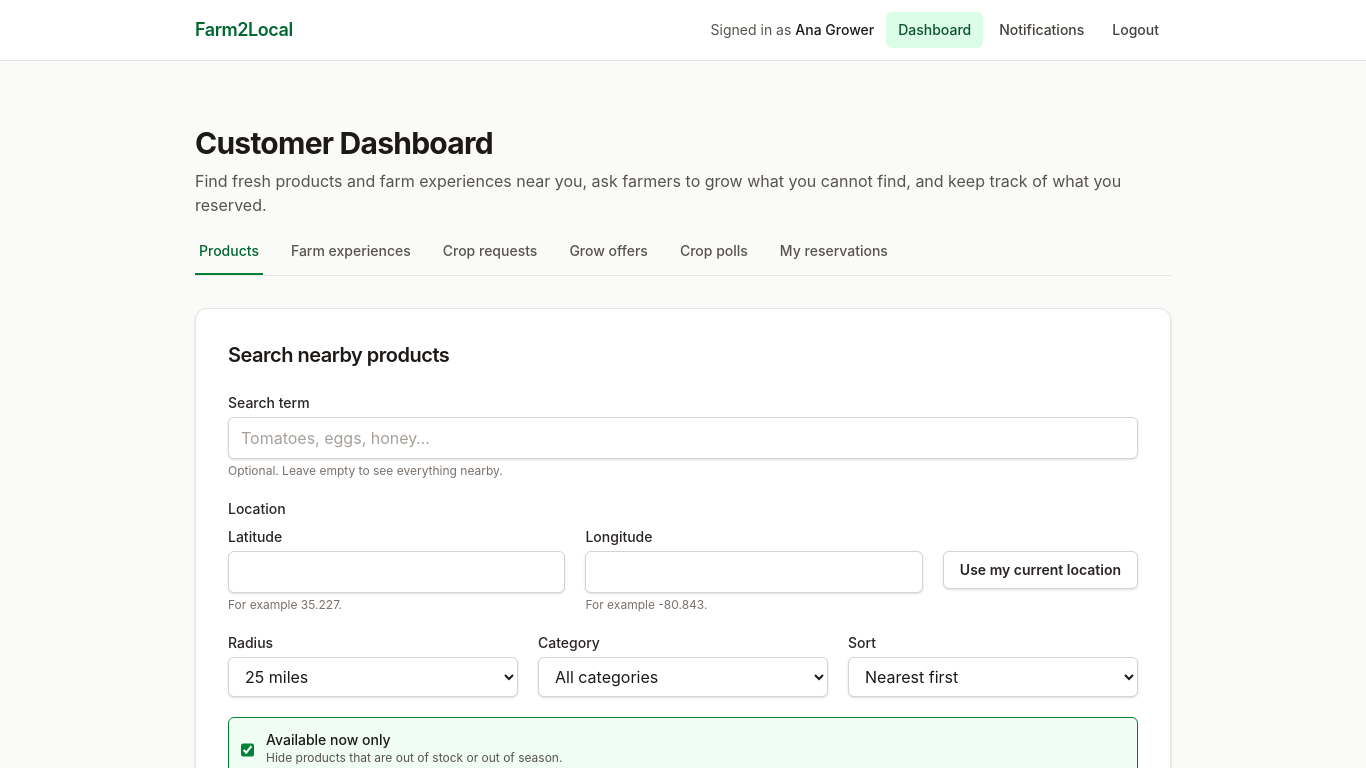
it: reserving a product from the search results › offers no reserve button for a product that is out of stock
Type "35.2271" into the field labelled "Latitude".
click(397, 572); type("35.2271")  # box [228,551,565,593]
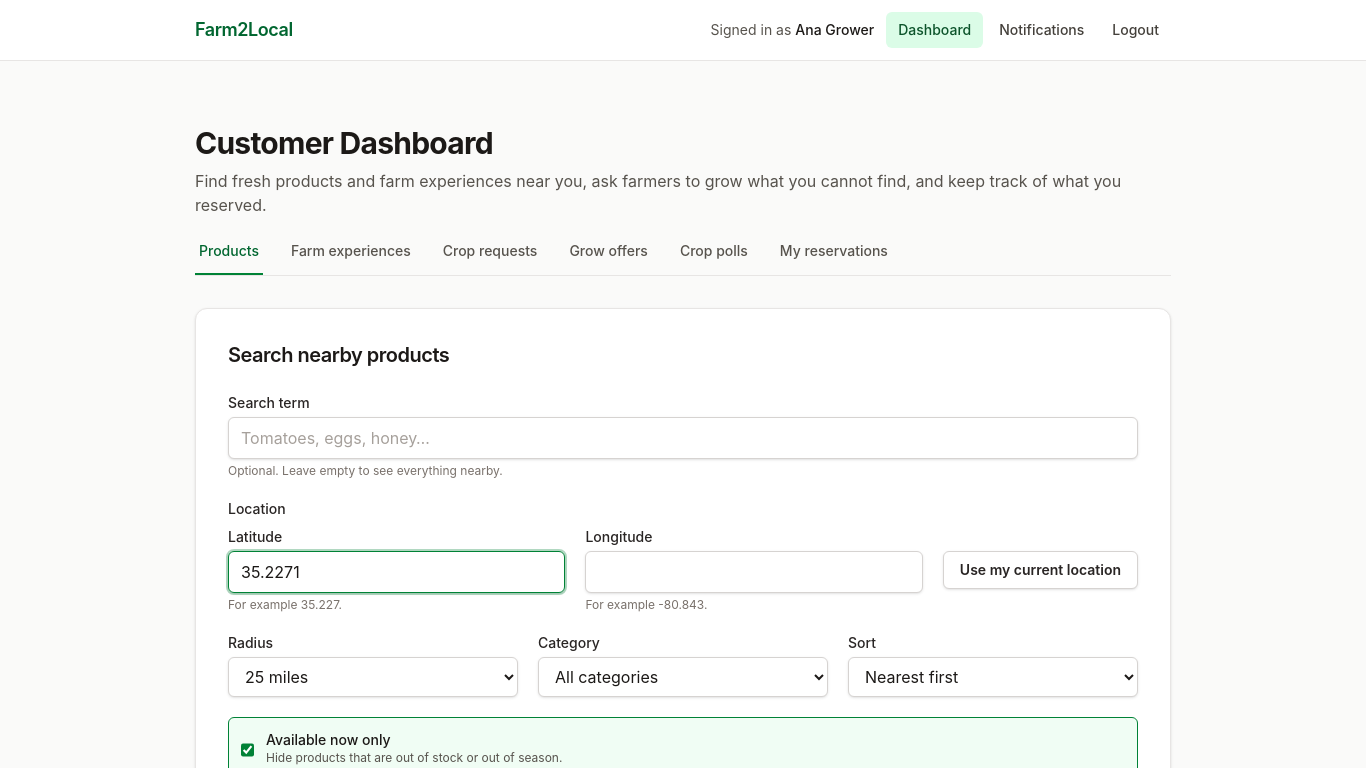
Type "-80.8431" into the field labelled "Longitude".
click(754, 572); type("-80.8431")  # box [585,551,923,593]
(page scrolled)
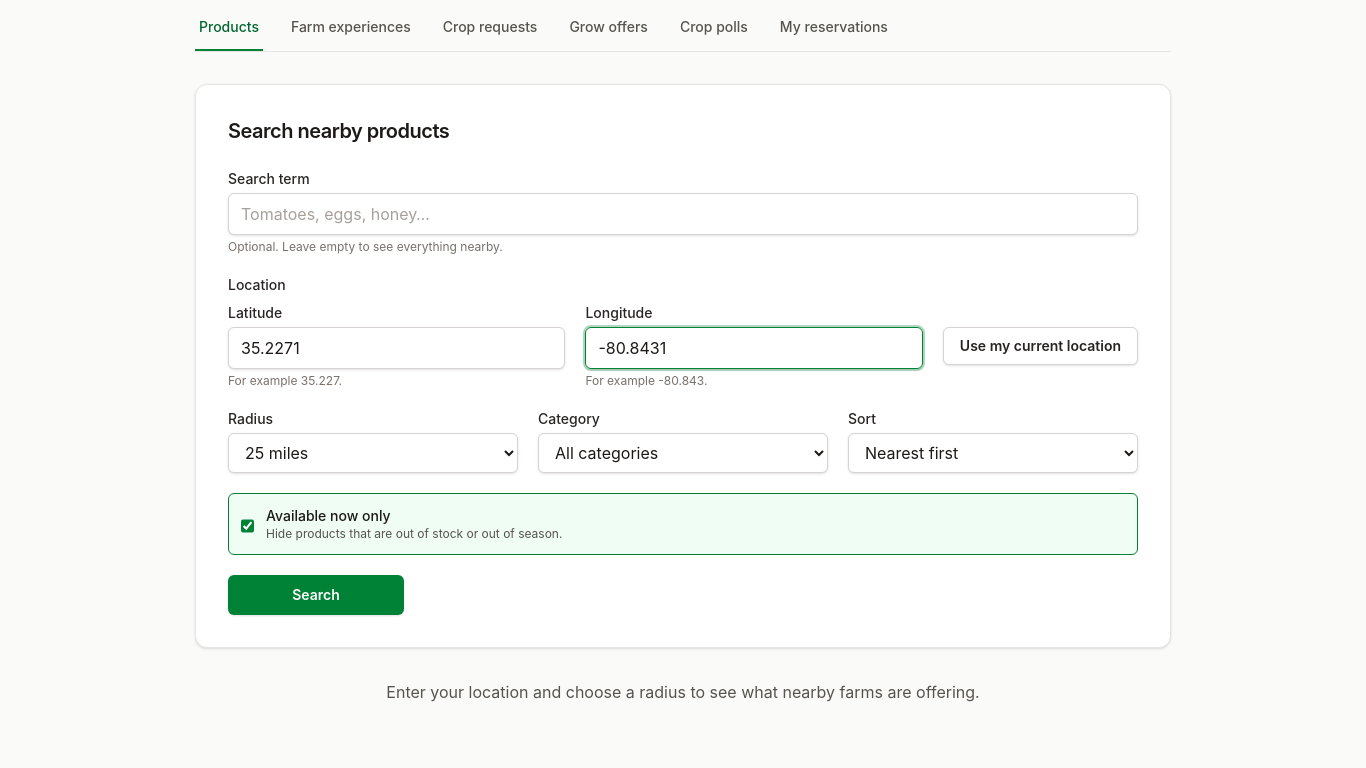
Click the button "Search".
click(316, 595)  # box [228,575,404,615]
(page scrolled)
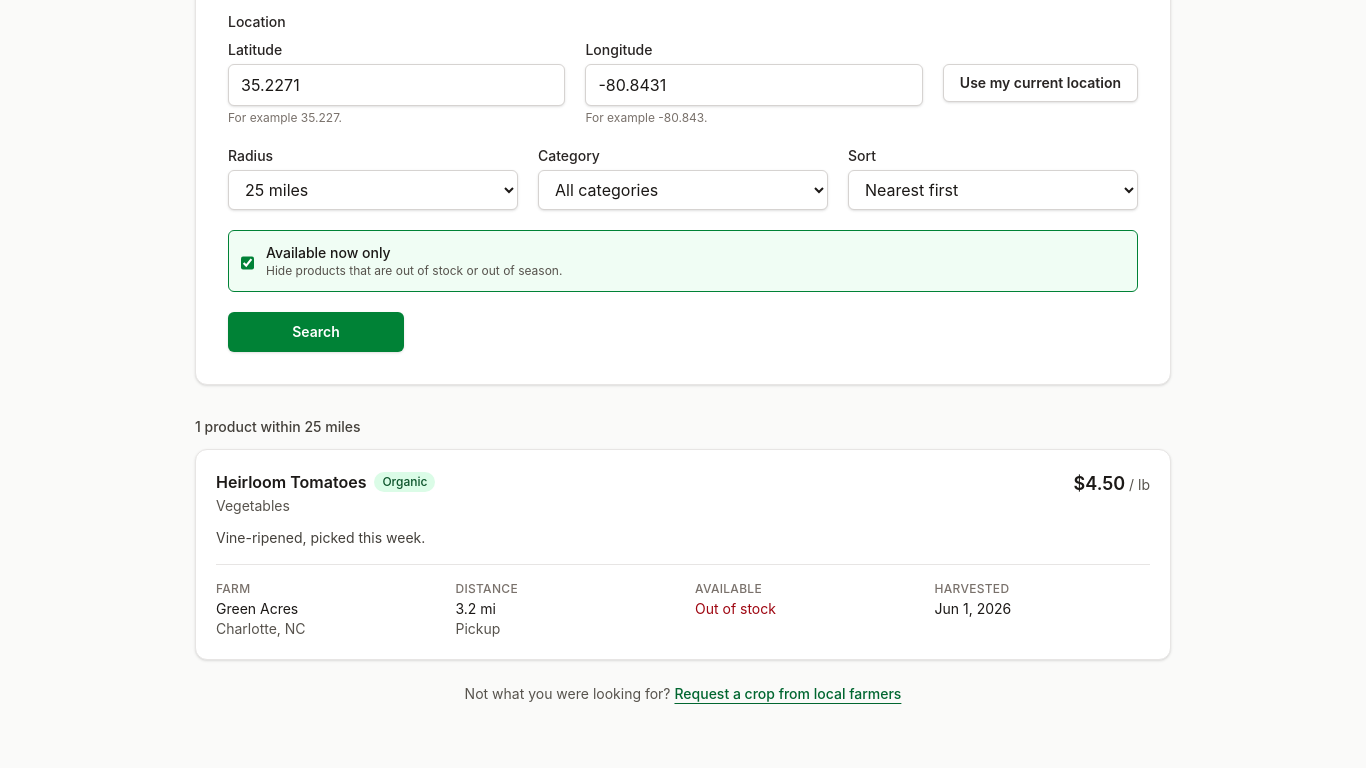
Check: the text "Out of stock" is shown, box [695,600,776,617]
